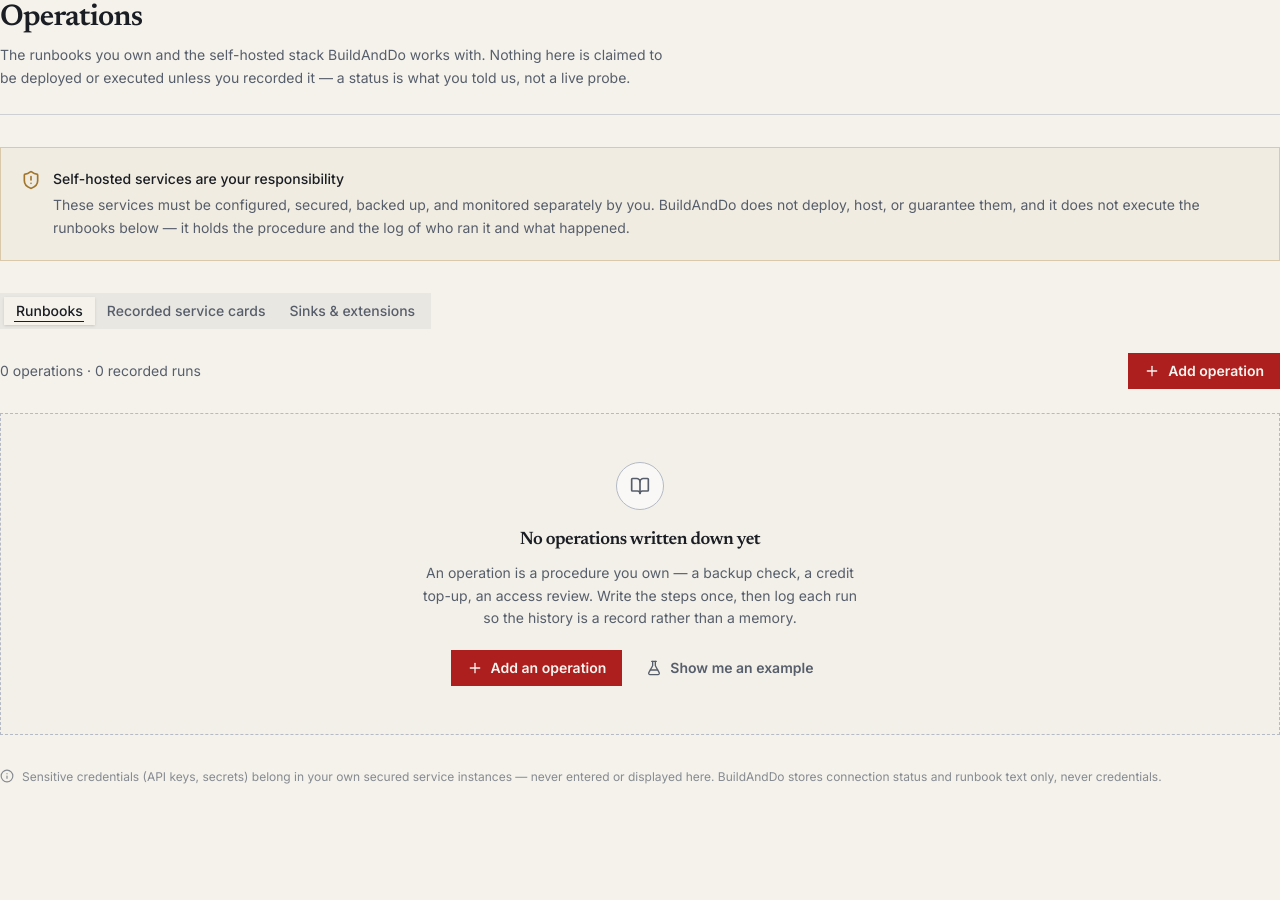
Test: operations desk › retains the draft when a save fails and permits retry
Click the button "Add operation" at (1204, 371), box [1128, 353, 1279, 389]
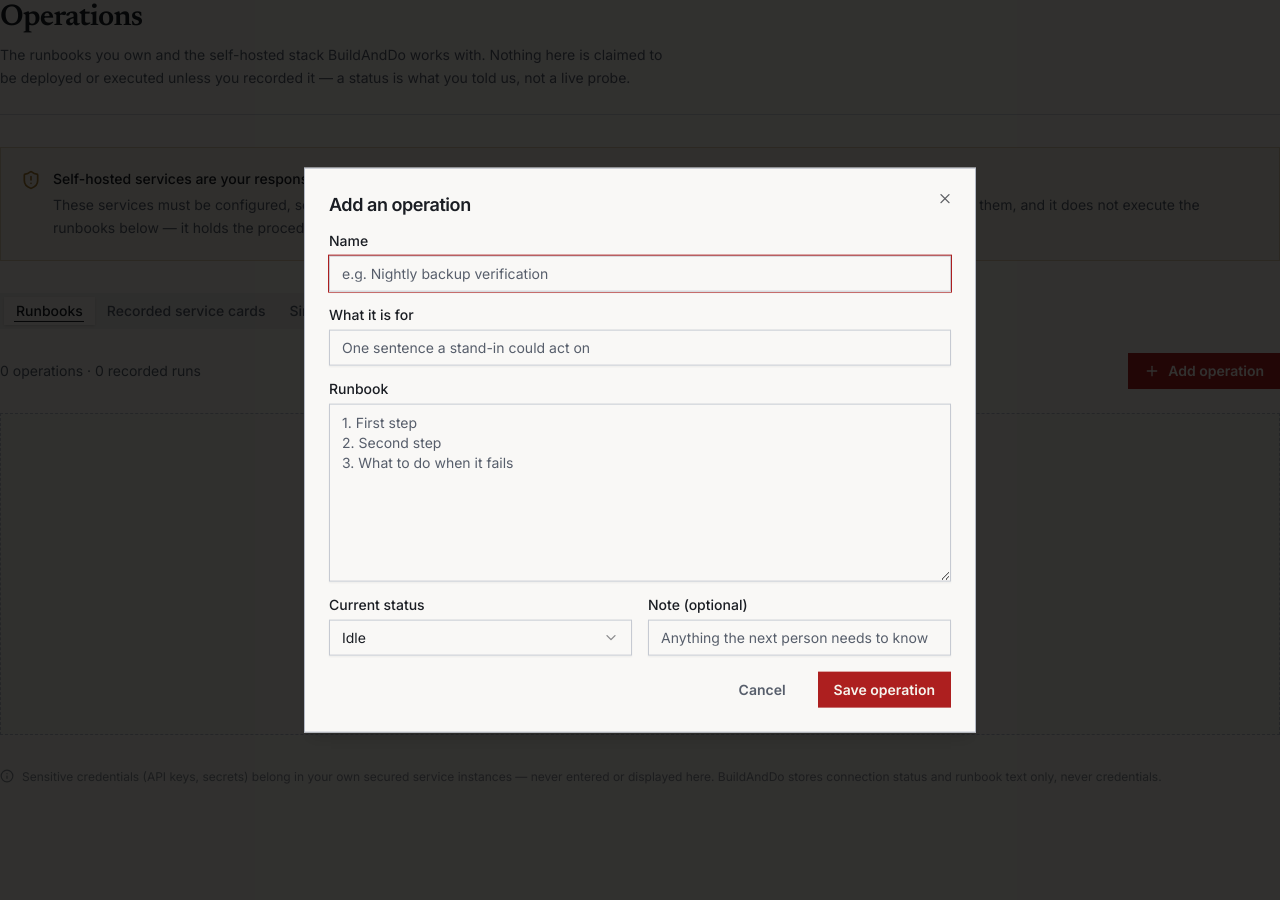
Type "Retained draft" into the field labelled "Name" at (640, 273), box [329, 255, 951, 291]
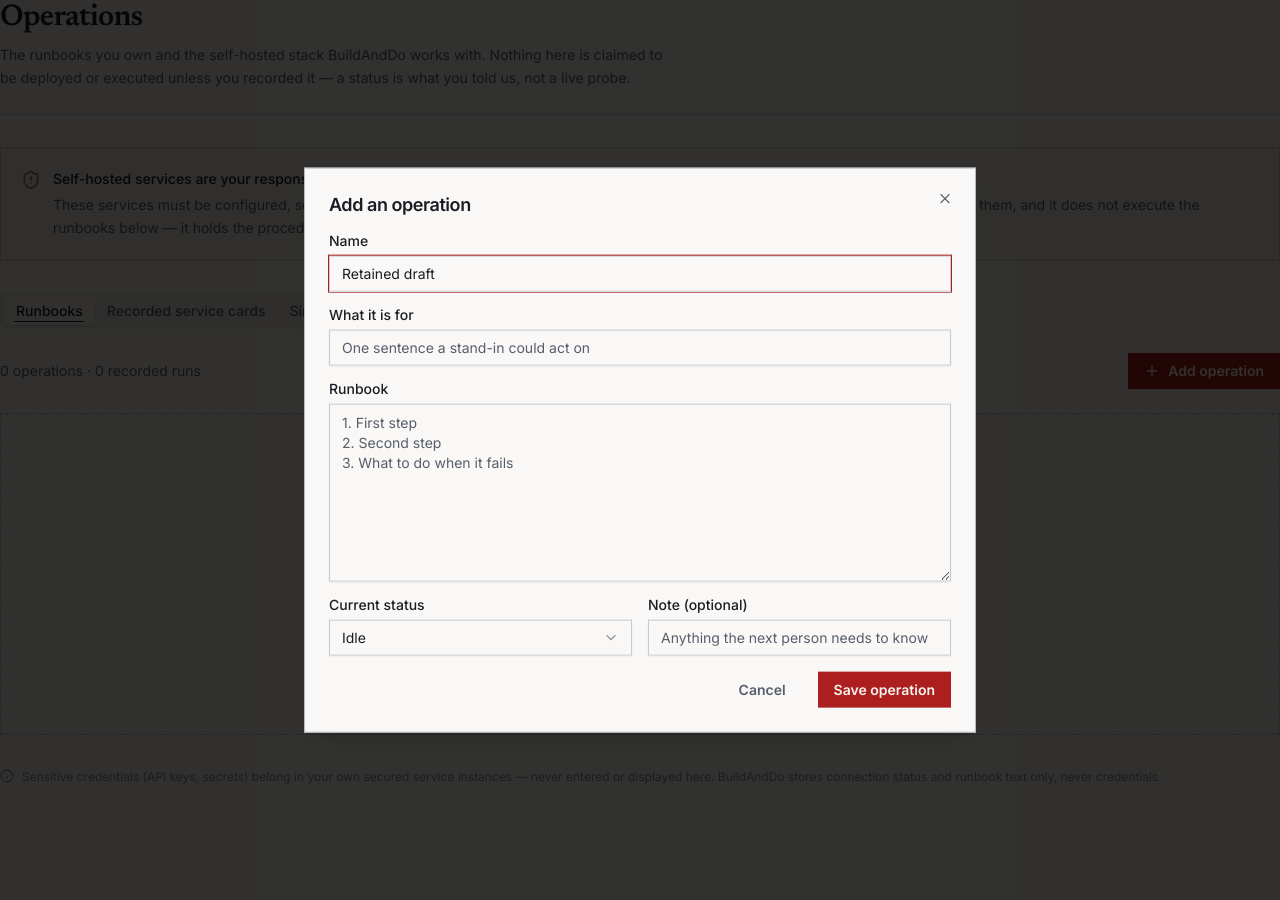
Click the button "Save operation" at (884, 689), box [818, 671, 951, 707]
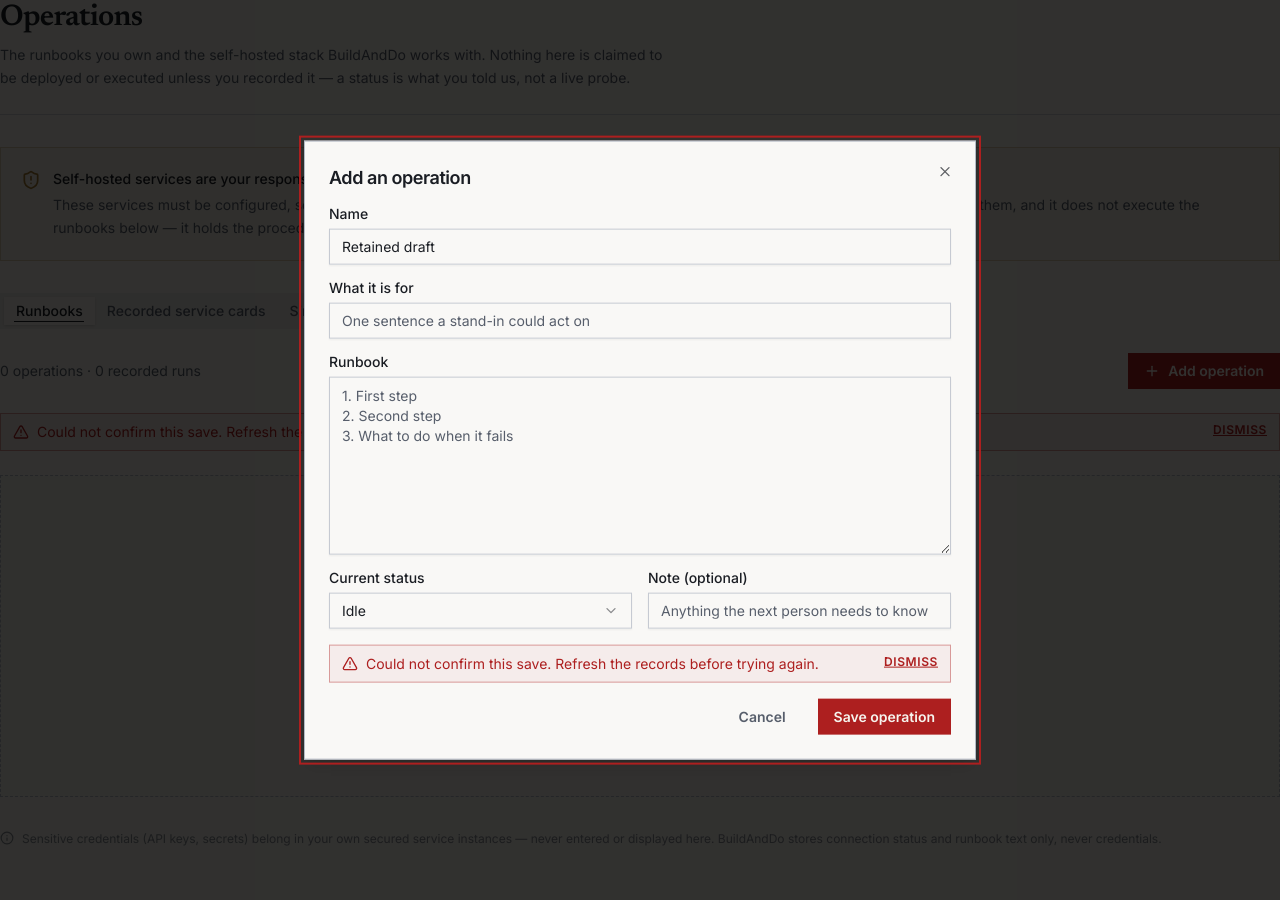
Check: the message "Could not confirm this save. Refresh the records before trying again. Dismiss" is shown, box [329, 644, 951, 682]
Click the button "Save operation" at (884, 716), box [818, 698, 951, 734]
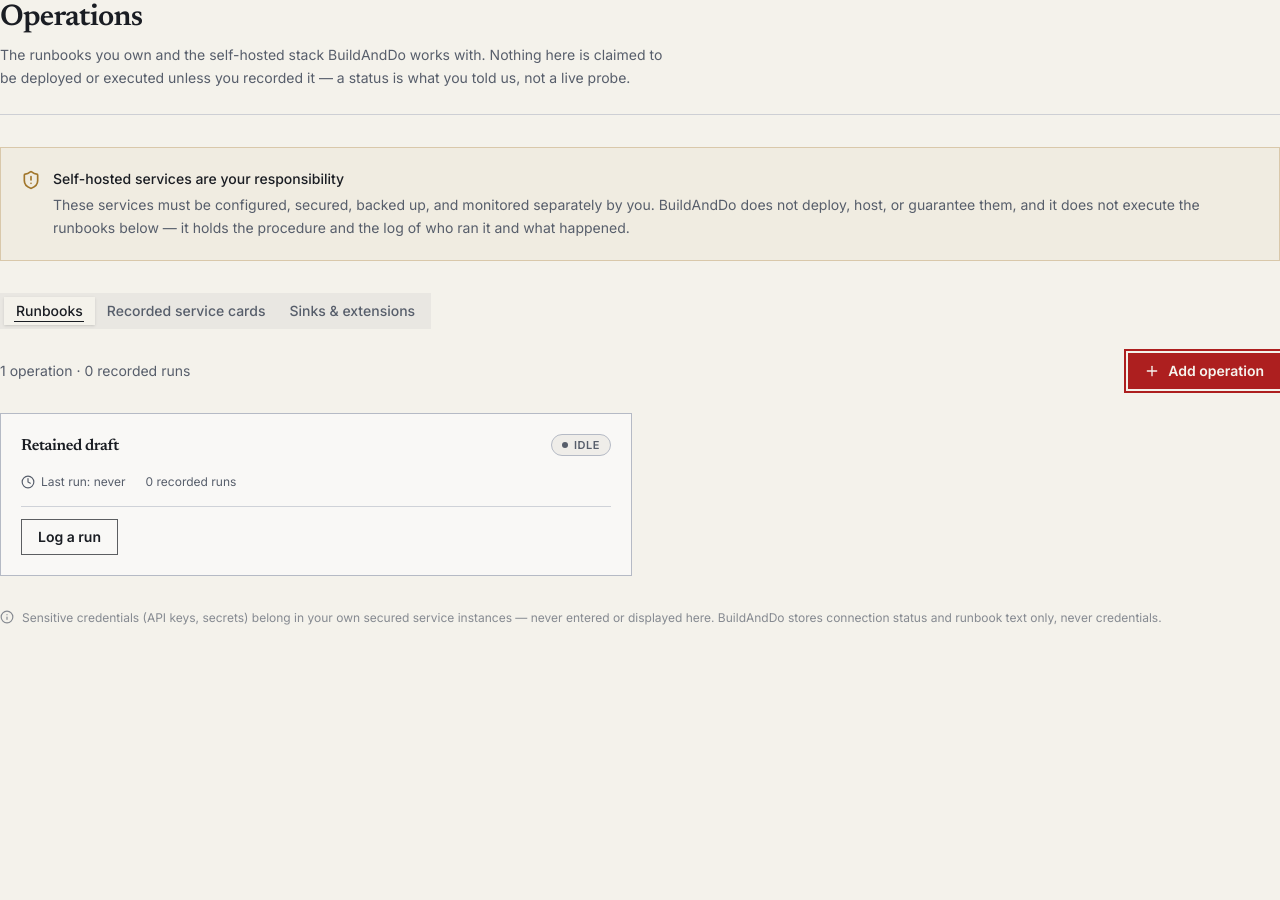
Check: the dialog is gone
